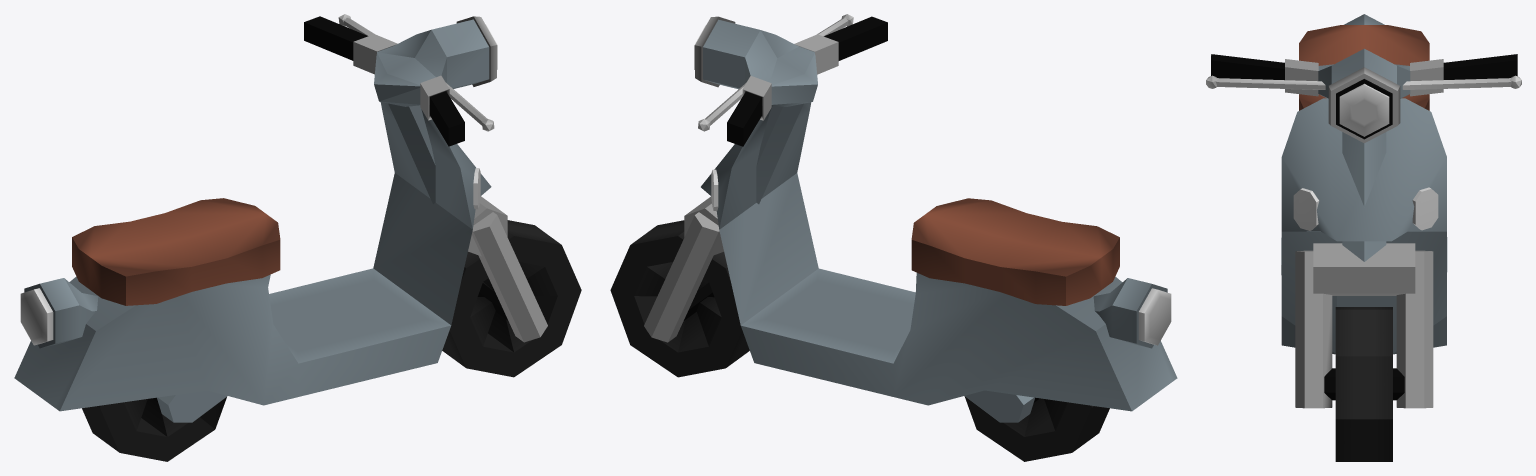
The model's file is moped.glb.
3 renders of one model, left to right at view 1: azimuth 30°, elevation 25°; view 2: azimuth 150°, elevation 25°; view 3: azimuth 270°, elevation 25°, orthographic. The views are drawn at different scales.
Parts seen in each view (by area): view 1: Cube; view 2: Cube; view 3: Cube.
Boxes of the visible parts, x1=… form: Cube: x1=14, y1=14, x2=581, y2=461; Cube: x1=610, y1=14, x2=1177, y2=461; Cube: x1=1206, y1=14, x2=1521, y2=461.
Size of the model in its own units: 7.94 by 5.06 by 3.83.
